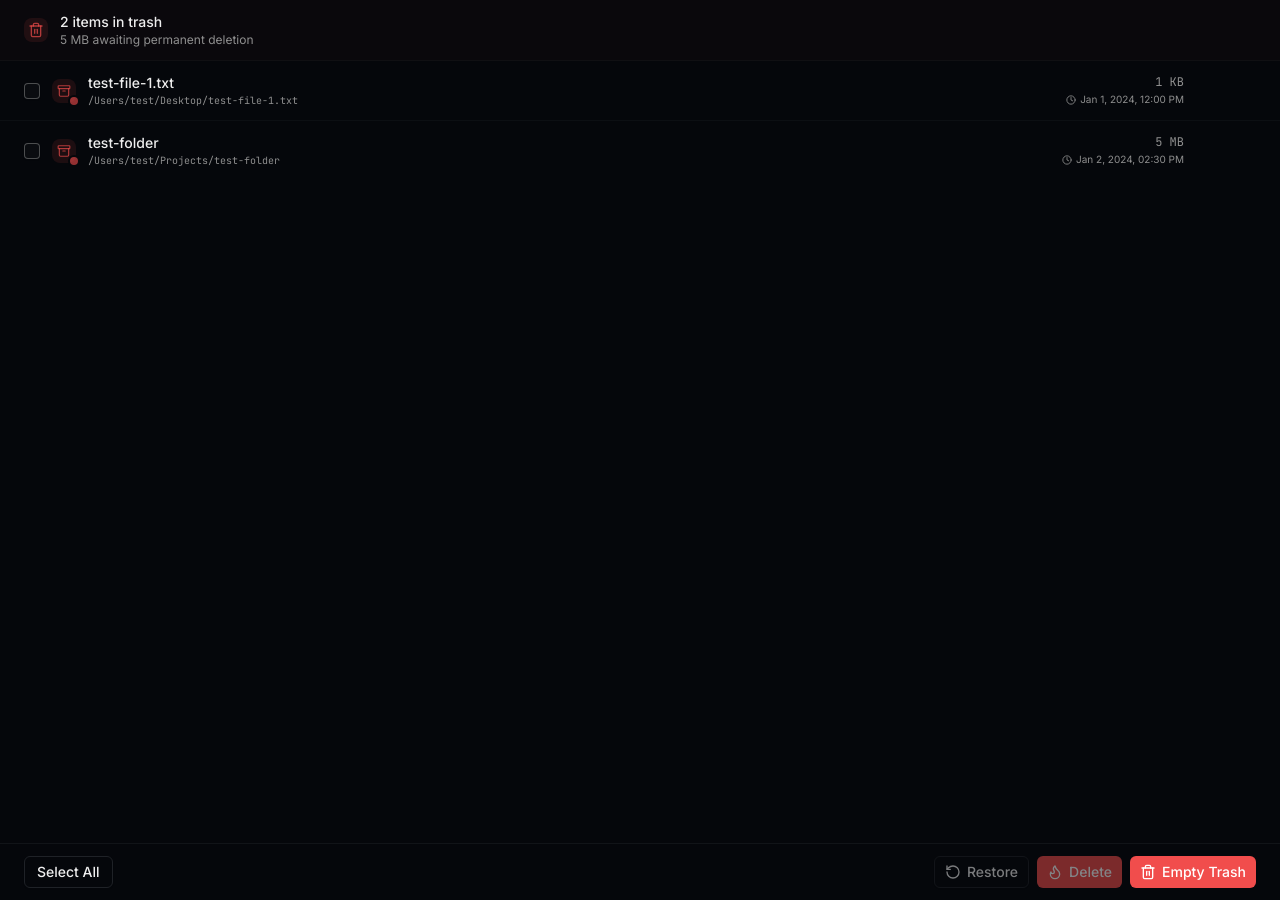
it: TrashView › Error handling › displays error message when restore fails
This screenshot has width=1280, height=900.
Click the button "Select All" at (68, 872), box [24,856,113,888]
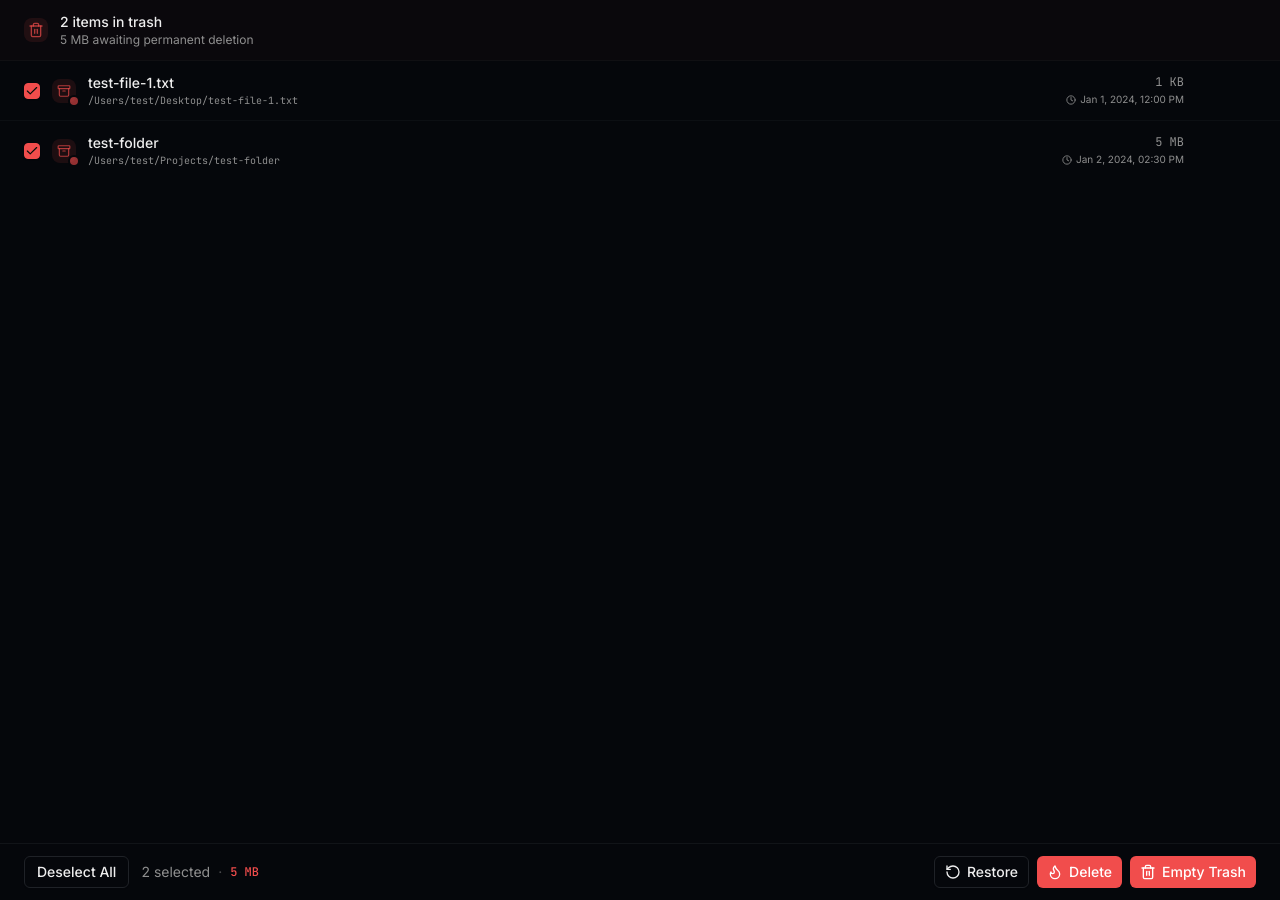
Check: the button "Restore" is enabled
Click the button "Restore" at (982, 872), box [934,856,1029,888]
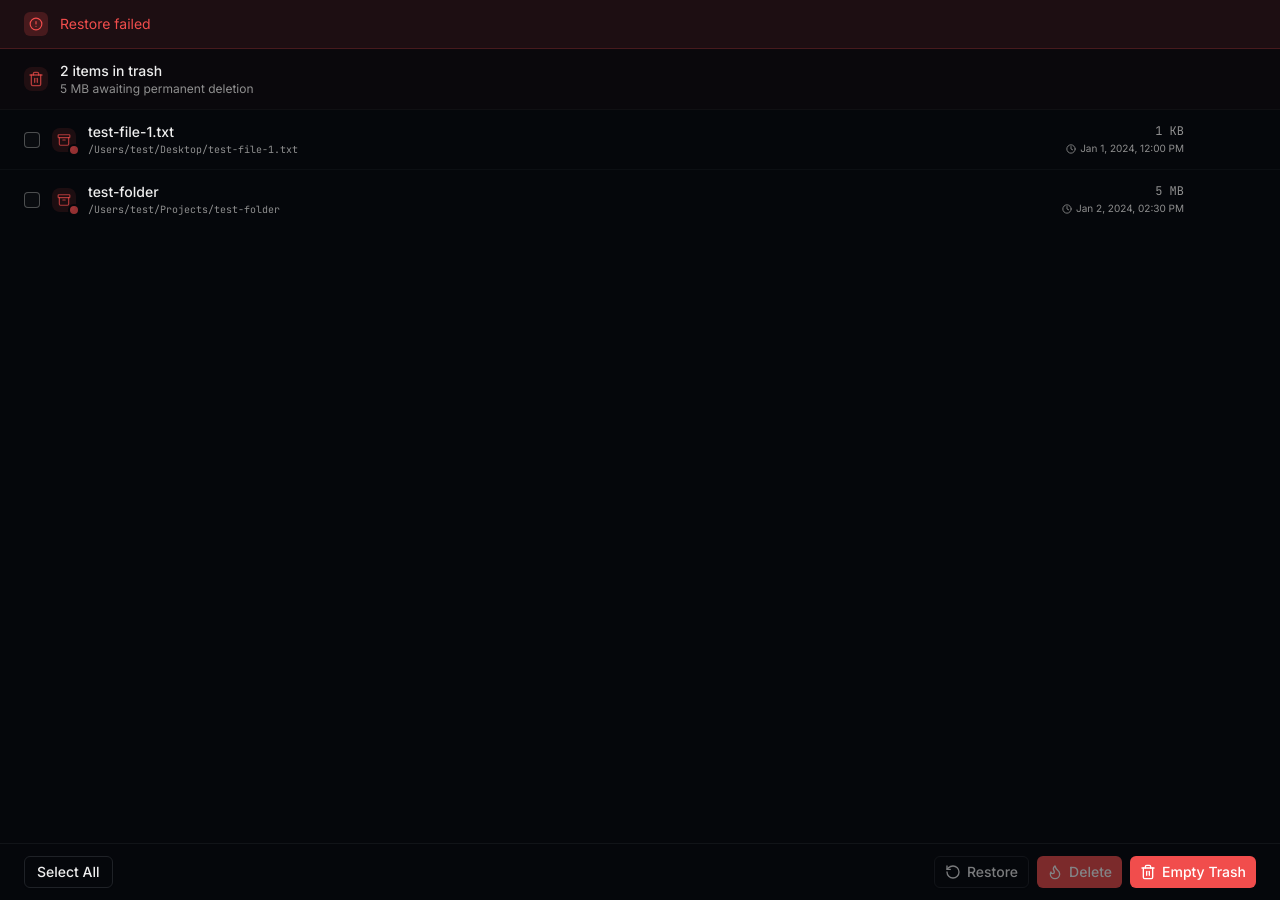
Check: the text "Restore failed" is shown, box [60,15,151,32]
